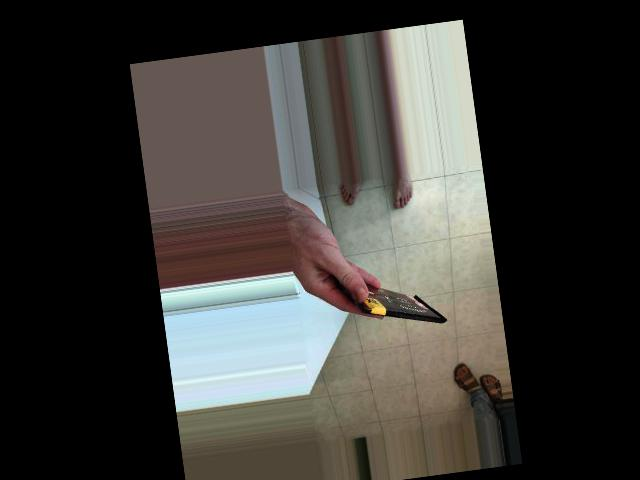chocolate: (392, 274, 471, 389)
